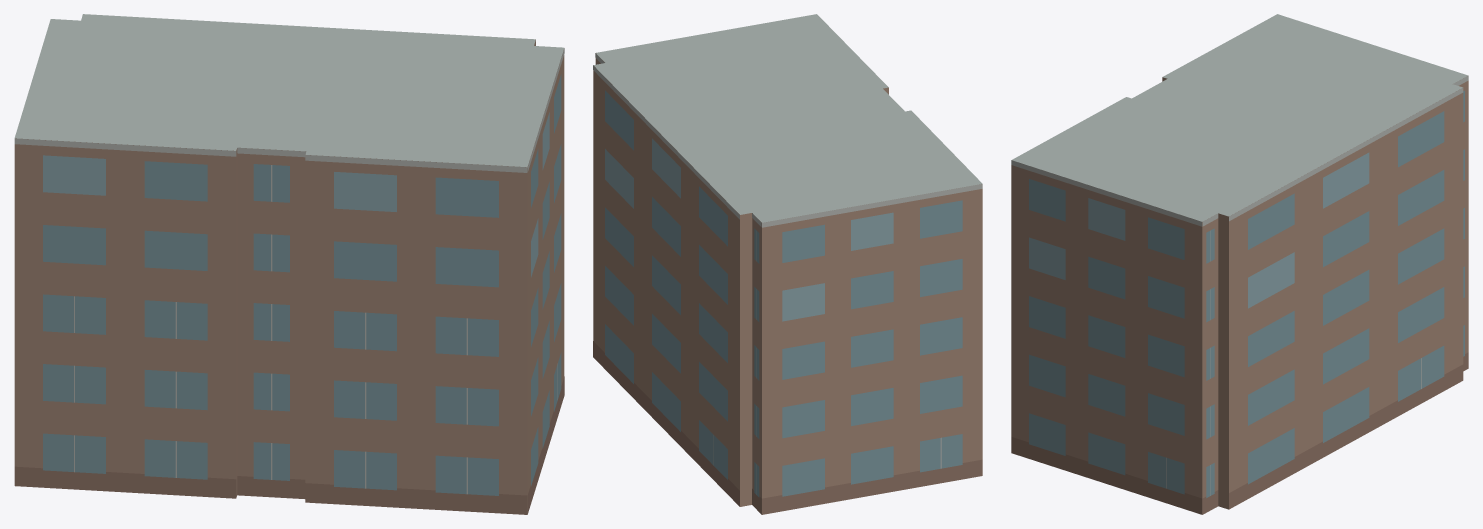
File: survey-upis-32954261.glb
The picture shows the model from 3 angles, left to right: view 1: azimuth 30°, elevation 25°; view 2: azimuth 150°, elevation 25°; view 3: azimuth 270°, elevation 25°; orthographic projection. The views are drawn at different scales.
Visible parts, largest first — view 1: survey-upis-32954261.tmp; view 2: survey-upis-32954261.tmp; view 3: survey-upis-32954261.tmp.
Boxes of the visible parts, x1,y1,x2,y2 form: survey-upis-32954261.tmp: [14, 14, 564, 514]; survey-upis-32954261.tmp: [593, 14, 982, 514]; survey-upis-32954261.tmp: [1011, 14, 1468, 514].
Bounding box in the file's own units: 22.07 × 14.5 × 20.51.
